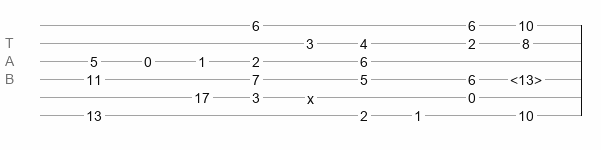0: (144, 54, 152, 64), (468, 90, 476, 100)
1: (198, 54, 206, 64), (414, 108, 422, 118)
10: (518, 18, 534, 28), (518, 108, 534, 118)
11: (86, 72, 102, 82)
13: (86, 108, 102, 118)
17: (194, 90, 210, 100)
2: (252, 54, 260, 64), (360, 108, 368, 118), (468, 36, 476, 46)
3: (252, 90, 260, 100), (306, 36, 314, 46)
4: (360, 36, 368, 46)
5: (90, 54, 98, 64), (360, 72, 368, 82)
6: (252, 18, 260, 28), (360, 54, 368, 64), (468, 72, 476, 82), (468, 18, 476, 28)
7: (252, 72, 260, 82)
8: (522, 36, 530, 46)
harmonic: (510, 72, 542, 82)
x: (307, 91, 314, 99)
